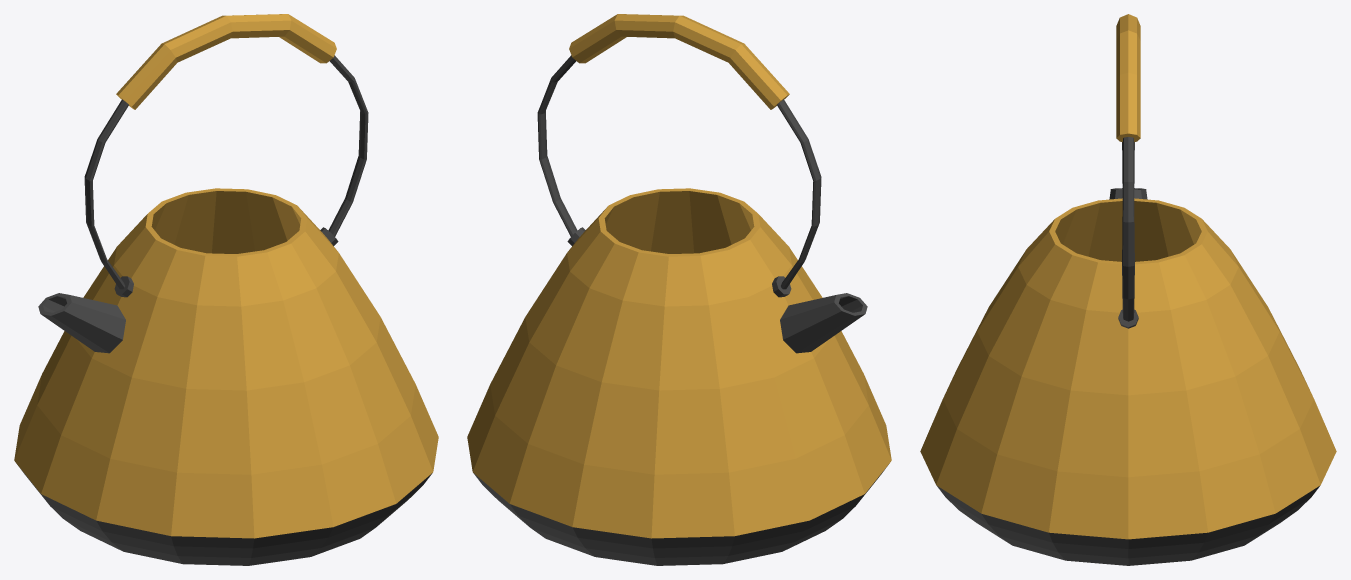
File: Kettle2_C3_01.fbx
The picture shows the model from 3 angles, left to right: view 1: azimuth 30°, elevation 25°; view 2: azimuth 150°, elevation 25°; view 3: azimuth 270°, elevation 25°; orthographic projection. The views are drawn at different scales.
Parts seen in each view (by area): view 1: Kettle2_C3_01; view 2: Kettle2_C3_01; view 3: Kettle2_C3_01.
Part boxes in pixels (x1,y1,x2,y2): Kettle2_C3_01: [14, 14, 438, 565]; Kettle2_C3_01: [467, 14, 891, 565]; Kettle2_C3_01: [920, 14, 1336, 565].
Size of the model in its own units: 35.67 by 44 by 35.61.
